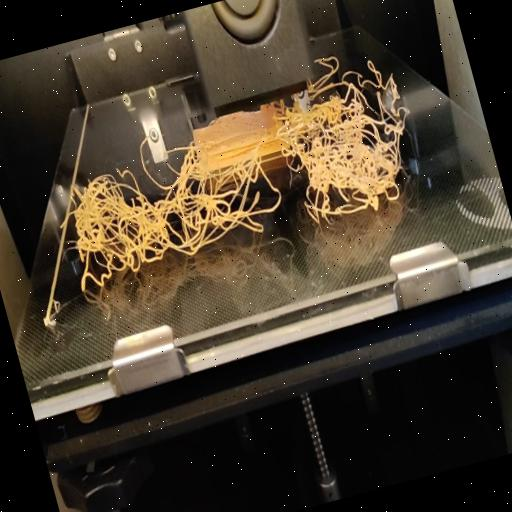spaghetti: (43, 70, 432, 292), (305, 40, 379, 90)
